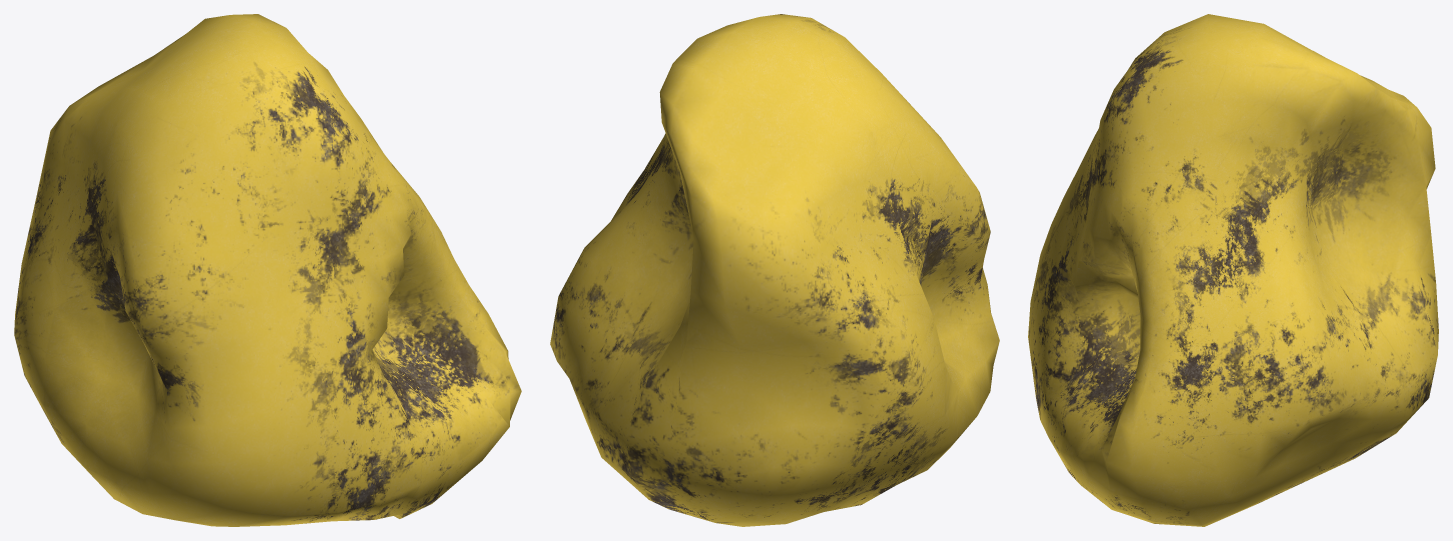
Rendered from Gold.fbx.
3 views of the same model, side by side, from view 1: azimuth 30°, elevation 25°; view 2: azimuth 150°, elevation 25°; view 3: azimuth 270°, elevation 25° (orthographic). The views are drawn at different scales.
Parts seen in each view (by area): view 1: Gold; view 2: Gold; view 3: Gold.
Boxes of the visible parts, x1,y1,x2,y2 form: Gold: [14, 14, 521, 526]; Gold: [550, 14, 999, 526]; Gold: [1028, 14, 1438, 526].
Size of the model in its own units: 8.27 by 9.3 by 7.73.
Materials: 1 (1 with a texture image).
